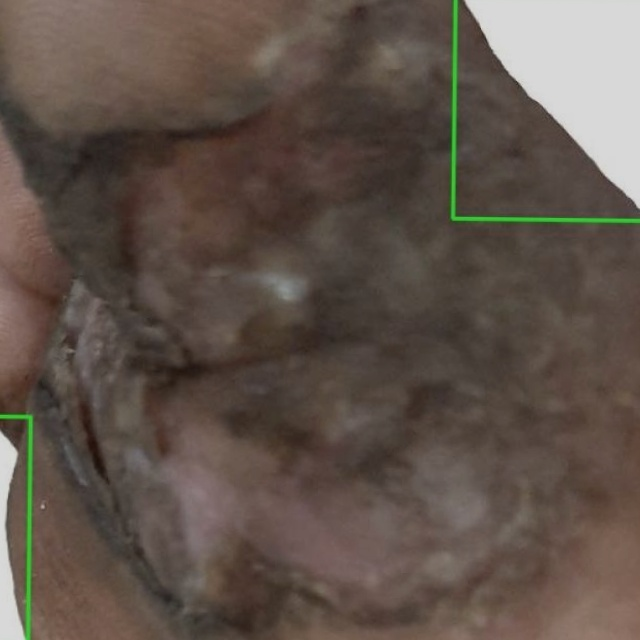Contact Dermatitis: (452, 0, 639, 220)
